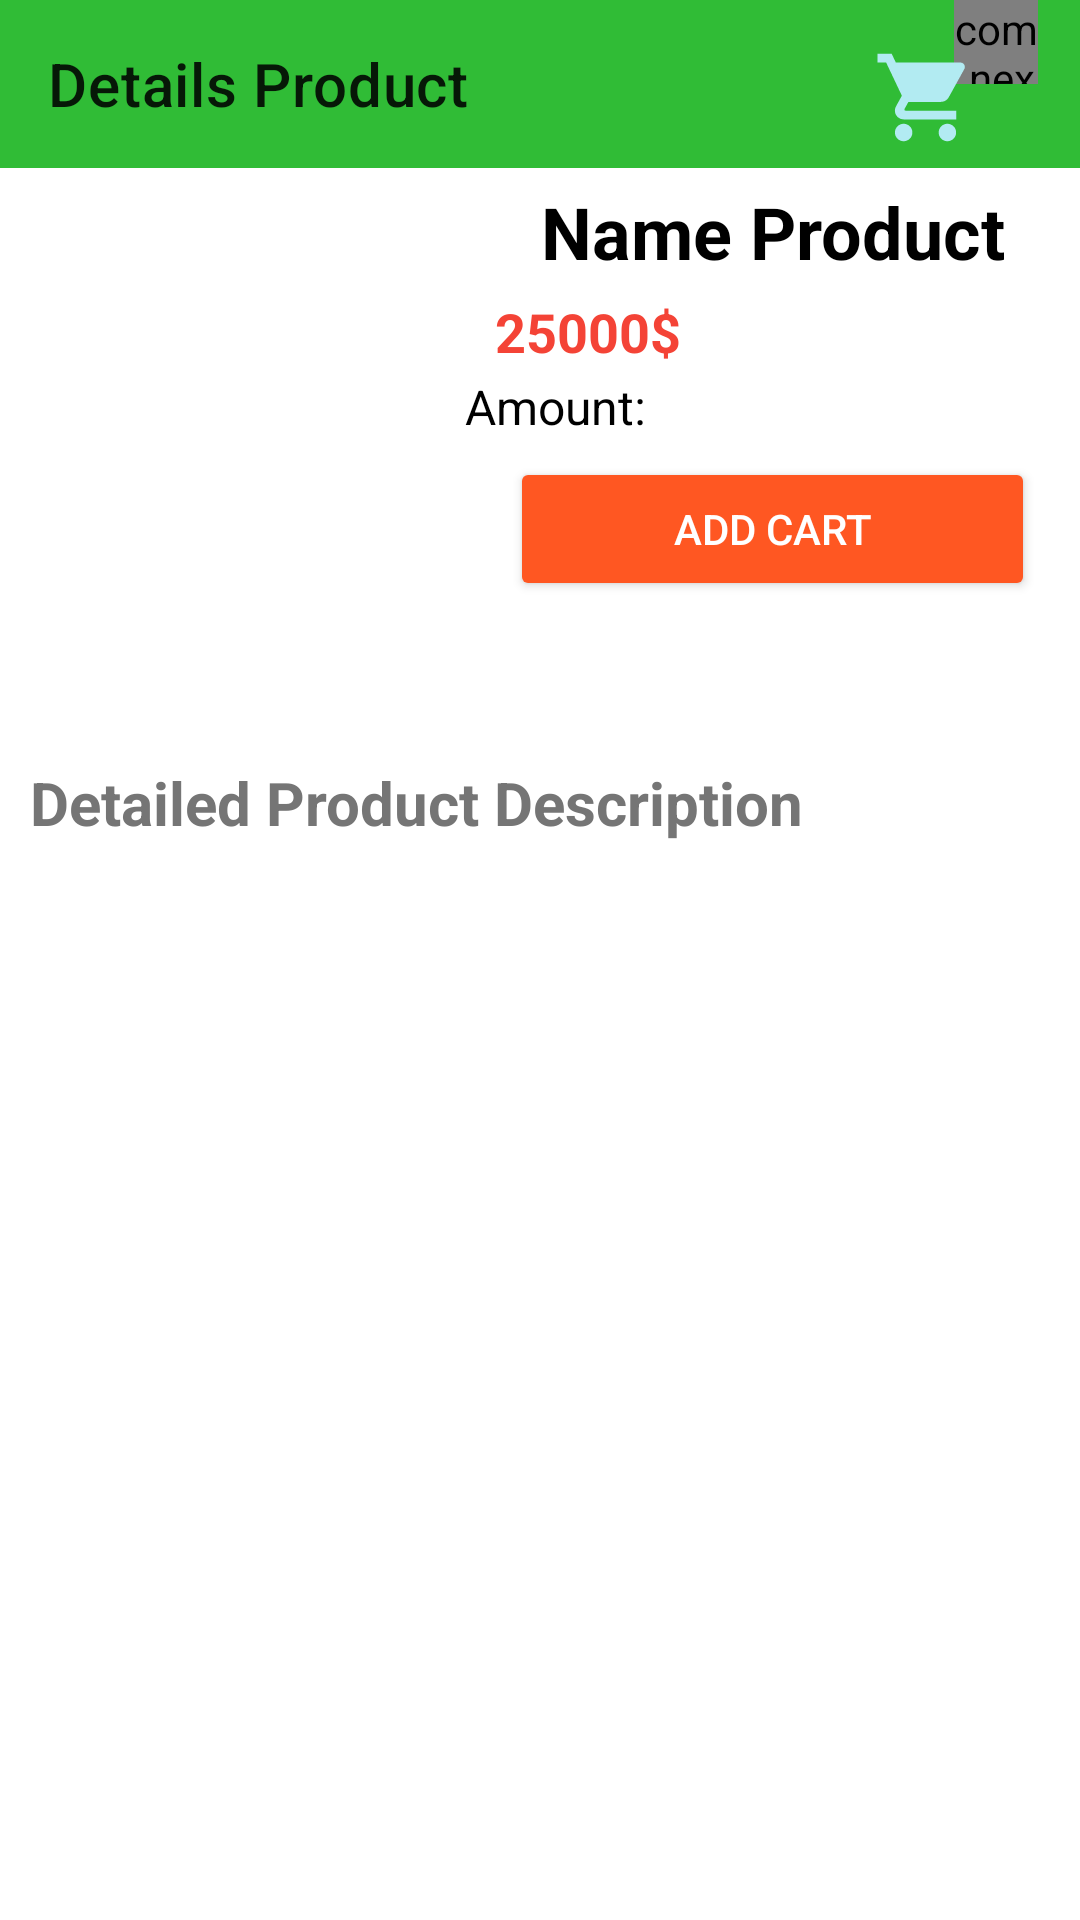

Named icons in this screenshot (1080 × 1920) and their bounding boxes, (x1, y1, x2, y2):
cart: (877, 45, 978, 142)
